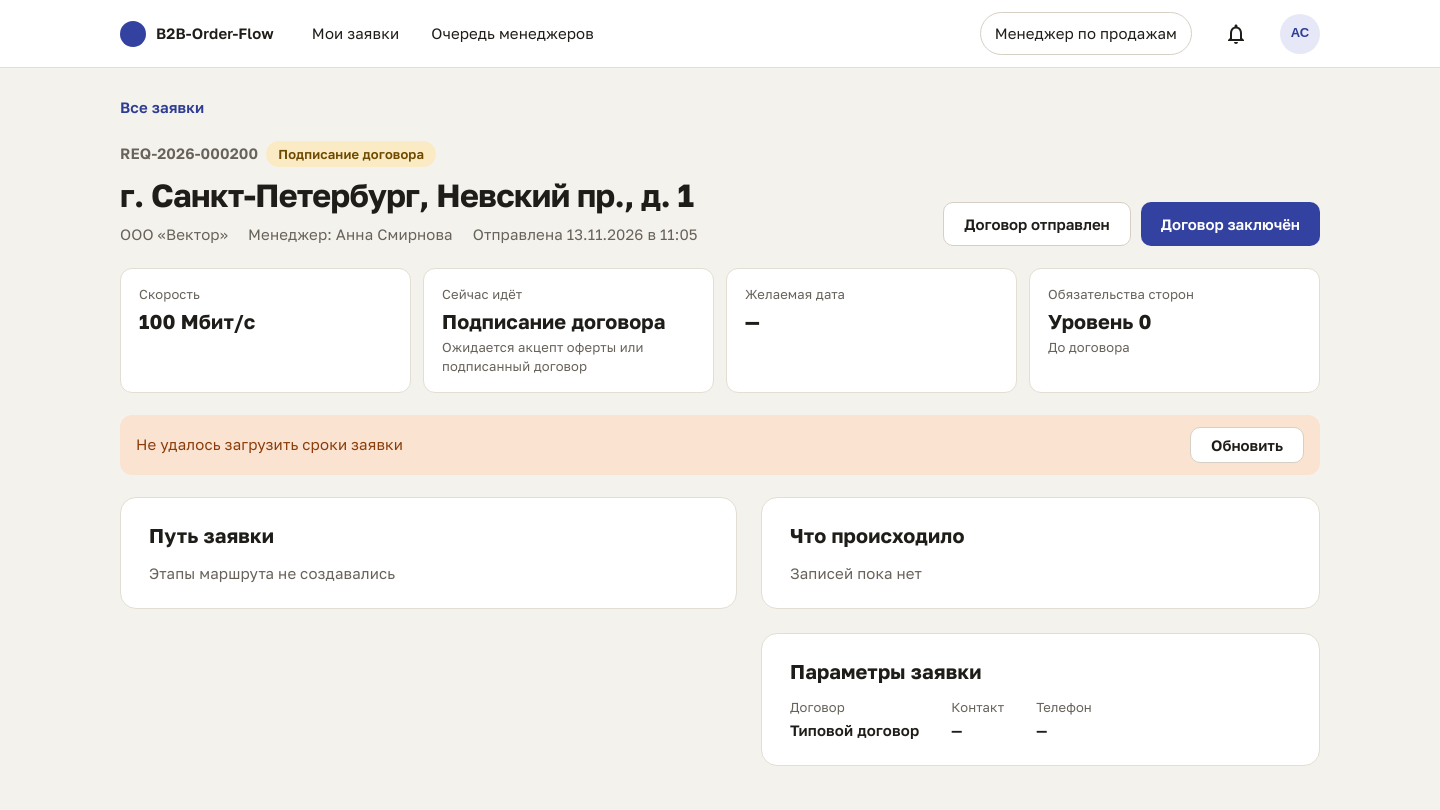
Test case: Договор (шаг 7) › менеджер отмечает отправку с version, кнопка исчезает, появляется подсказка об ожидании
Click the button with test id "action-contract-sent" at (1037, 224), box [943,202,1131,246]
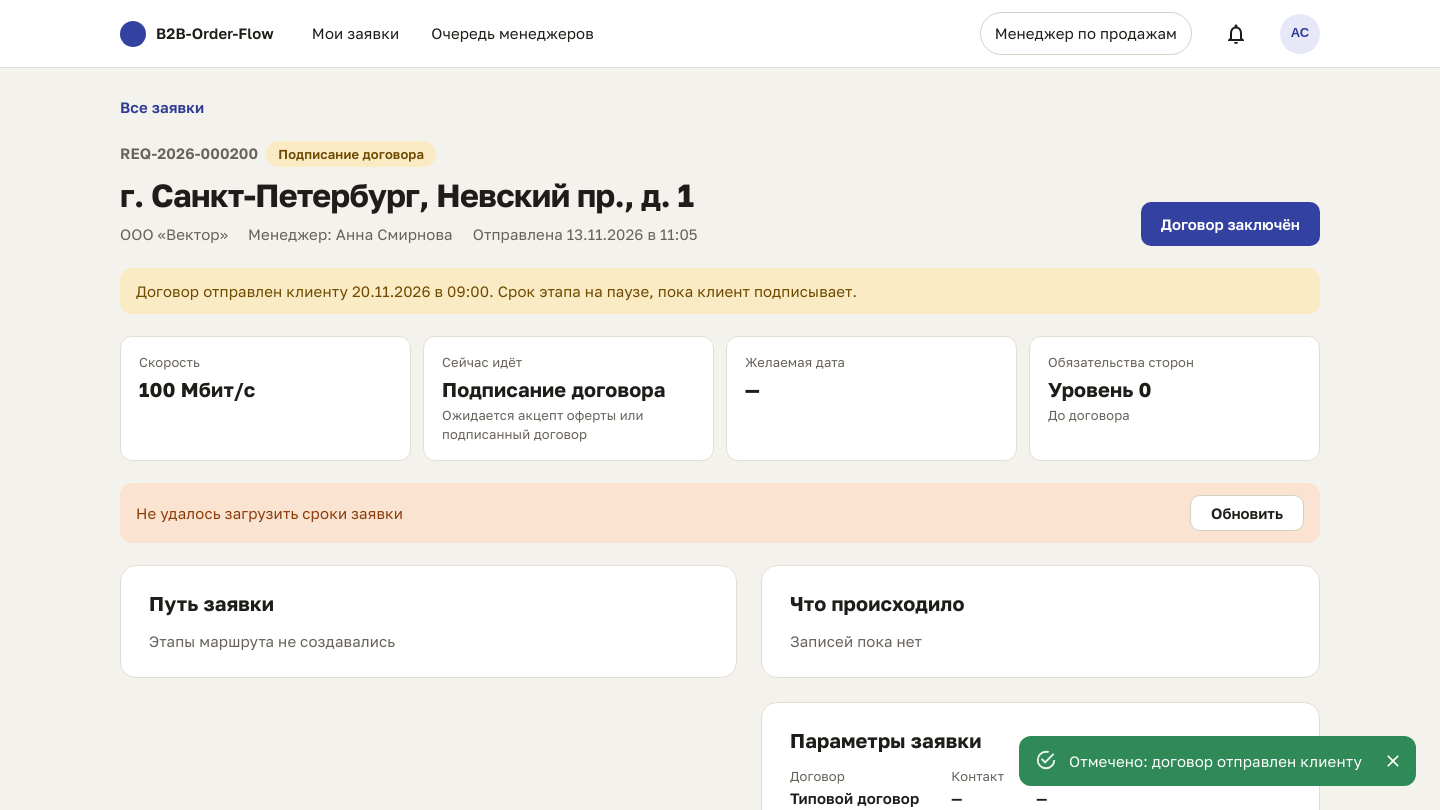
Check: the button with test id "action-contract-concluded" is shown, box [1141,202,1320,246]
Check: the button with test id "action-contract-sent" is gone
Check: the message with test id "request-card-workflow-notice" shows "Договор отправлен клиенту", box [136,282,857,300]
